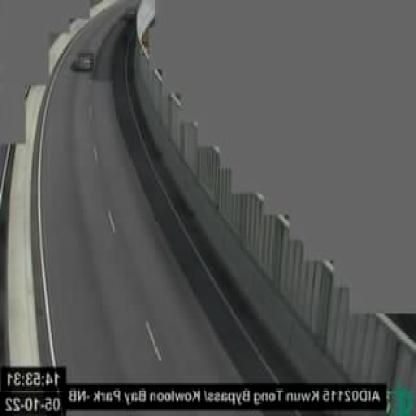Car: (78, 49, 92, 71)
